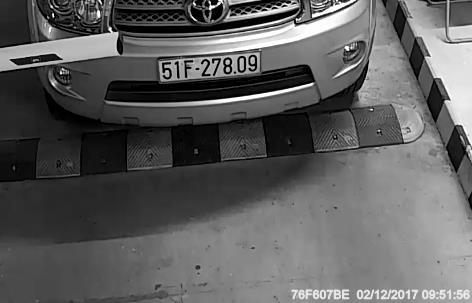License-plate: (151, 43, 267, 87)
